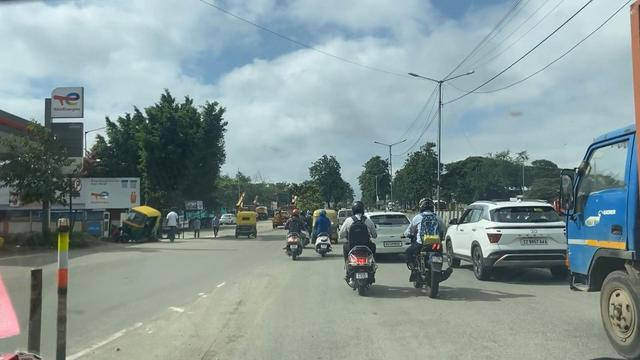LMV: (460, 202, 566, 273), (411, 196, 440, 294), (343, 201, 373, 291), (285, 210, 303, 259), (314, 209, 329, 257), (236, 211, 256, 238)
